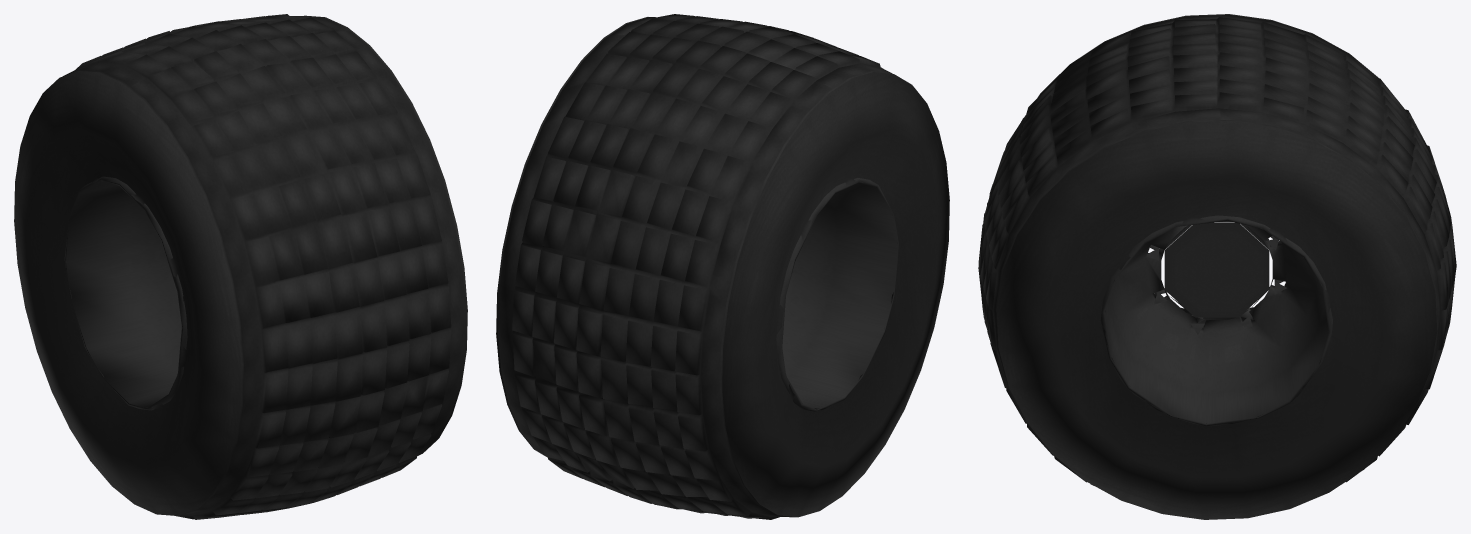
File: TW_wheel_front_d3.obj
3 views of the same model, side by side, from view 1: azimuth 30°, elevation 25°; view 2: azimuth 150°, elevation 25°; view 3: azimuth 270°, elevation 25° (orthographic). The views are drawn at different scales.
Parts seen in each view (by area): view 1: TW_wheel_front_TW_wheel_front_DefaultMaterial; view 2: TW_wheel_front_TW_wheel_front_DefaultMaterial; view 3: TW_wheel_front_TW_wheel_front_DefaultMaterial.
Part boxes in pixels (bbox=[...]): TW_wheel_front_TW_wheel_front_DefaultMaterial: bbox=[14, 14, 467, 519]; TW_wheel_front_TW_wheel_front_DefaultMaterial: bbox=[496, 14, 949, 519]; TW_wheel_front_TW_wheel_front_DefaultMaterial: bbox=[978, 14, 1456, 519].
Bounding box in the file's own units: 0.5977 × 0.983 × 0.986.
1 material, 1 textured.
